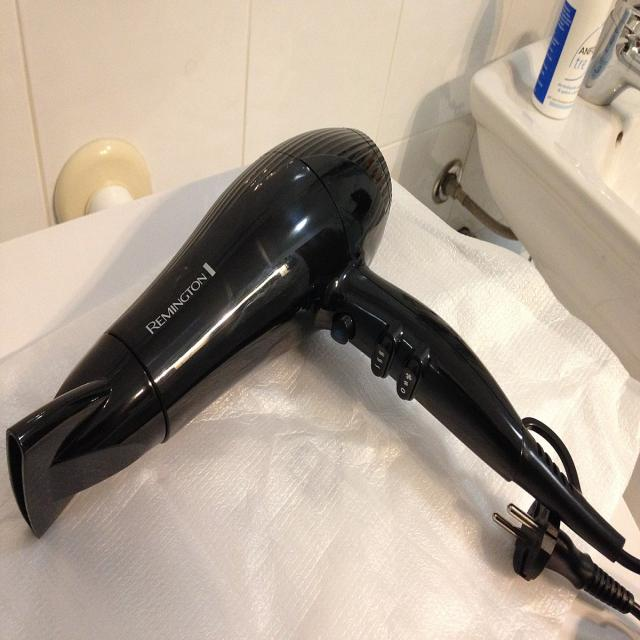dryer: (6, 126, 626, 564)
